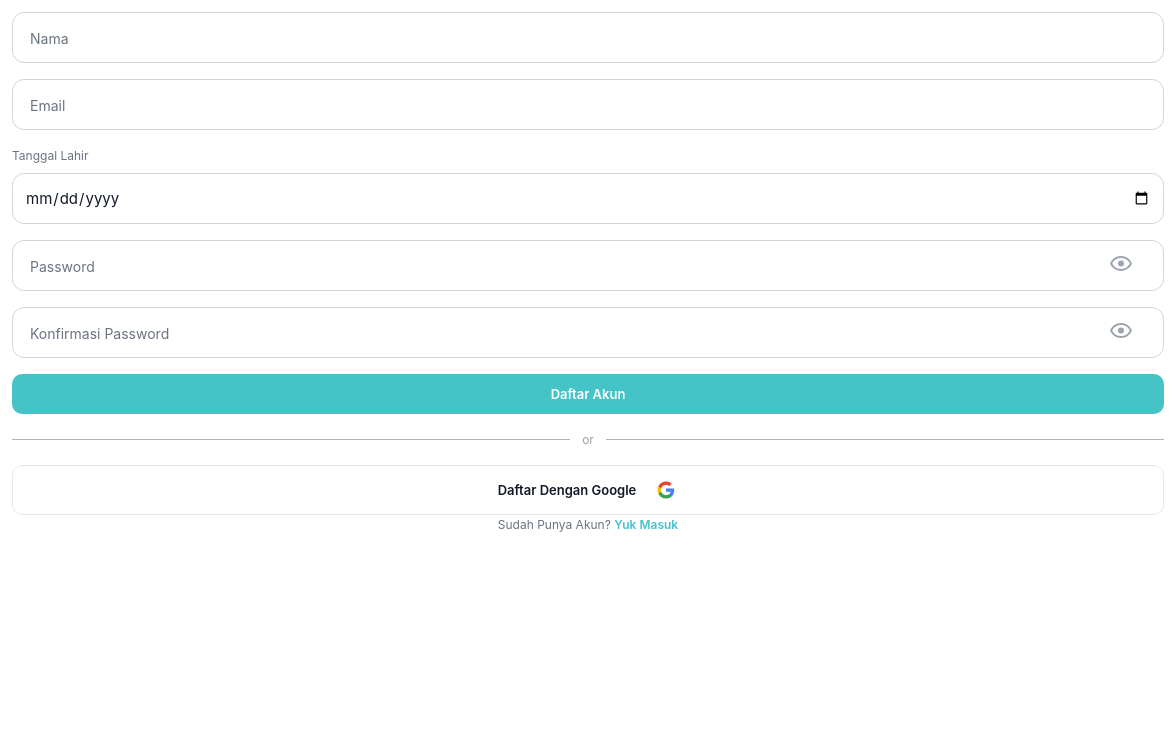
Scenario: RegisterForm › does not submit when password mismatch
In the field labelled "Nama": point(588, 38) [12,12,1164,63], type "Routa User"
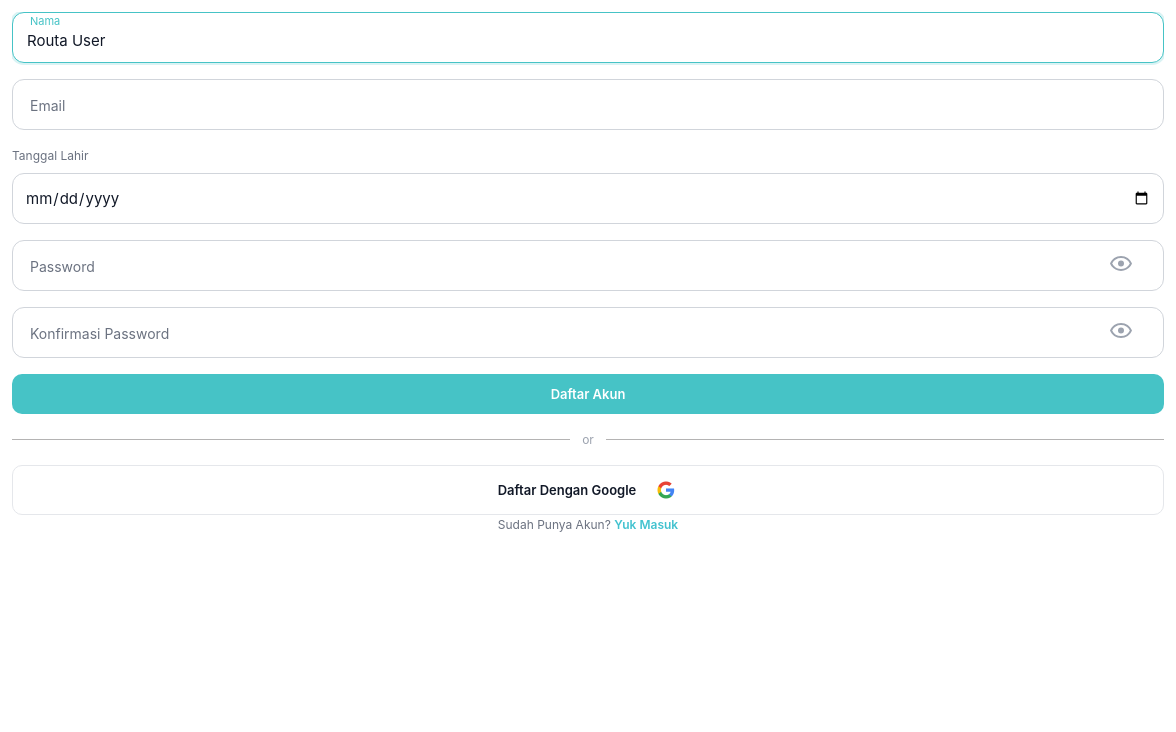
In the field labelled "Email": point(588, 104) [12,79,1164,130], type "user@example.com"
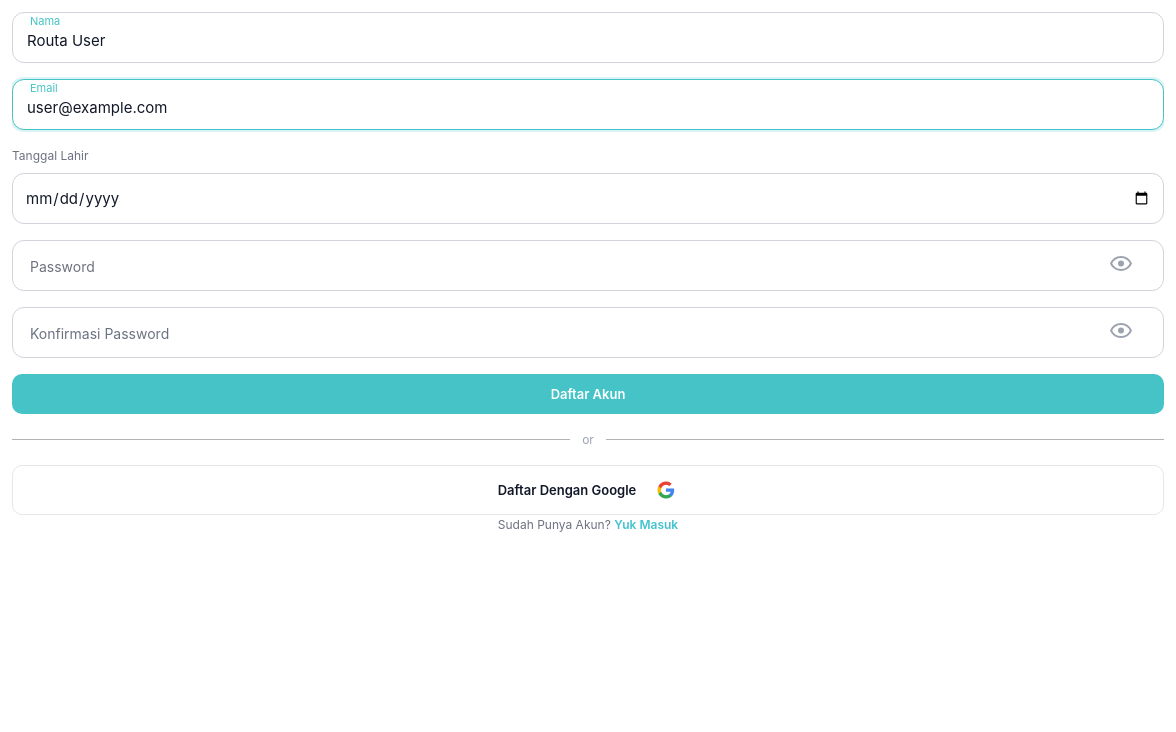
In the date field labelled "Tanggal Lahir": point(588, 199) [12,173,1164,224], type "1995-06-15"
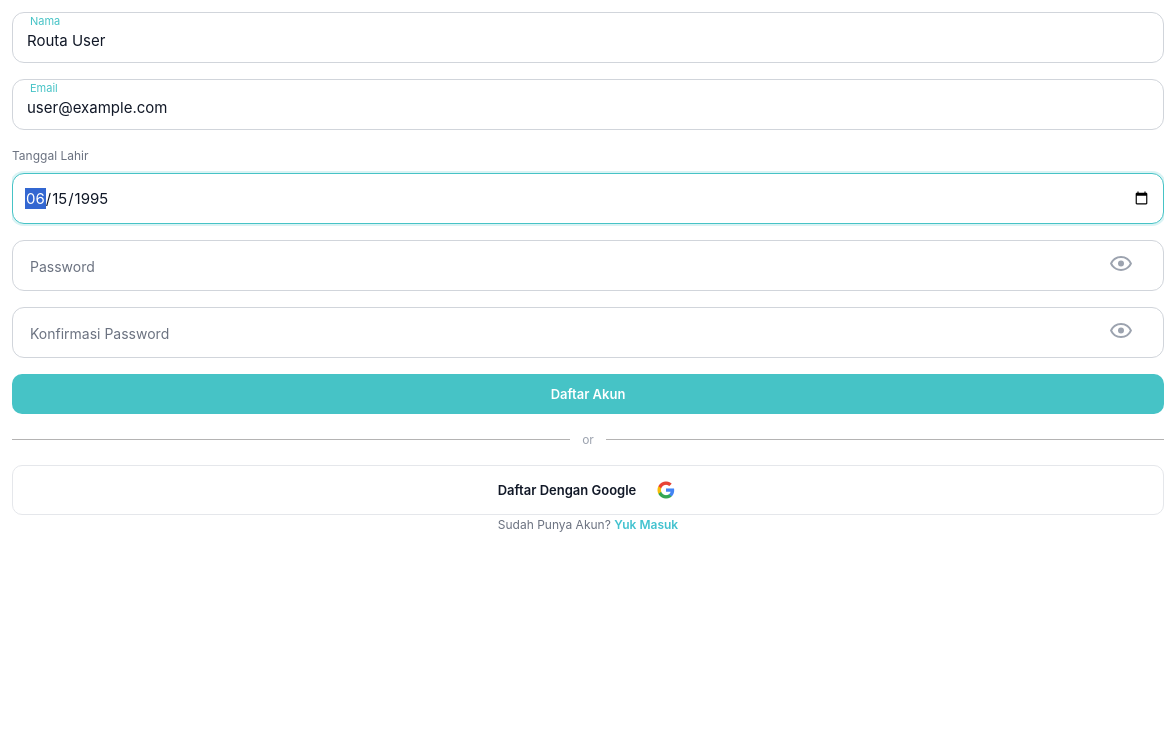
In the password field labelled "Password": point(588, 266) [12,240,1164,291], type "secret123"
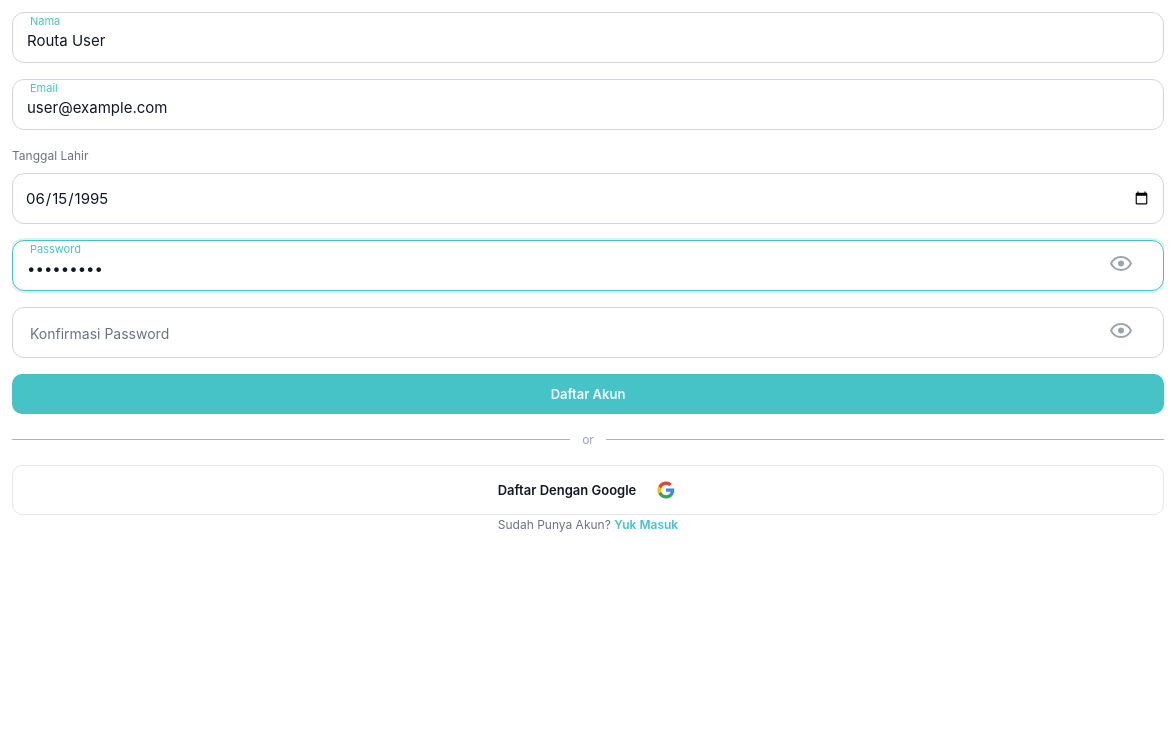
In the password field labelled "Konfirmasi Password": point(588, 333) [12,307,1164,358], type "secret321"
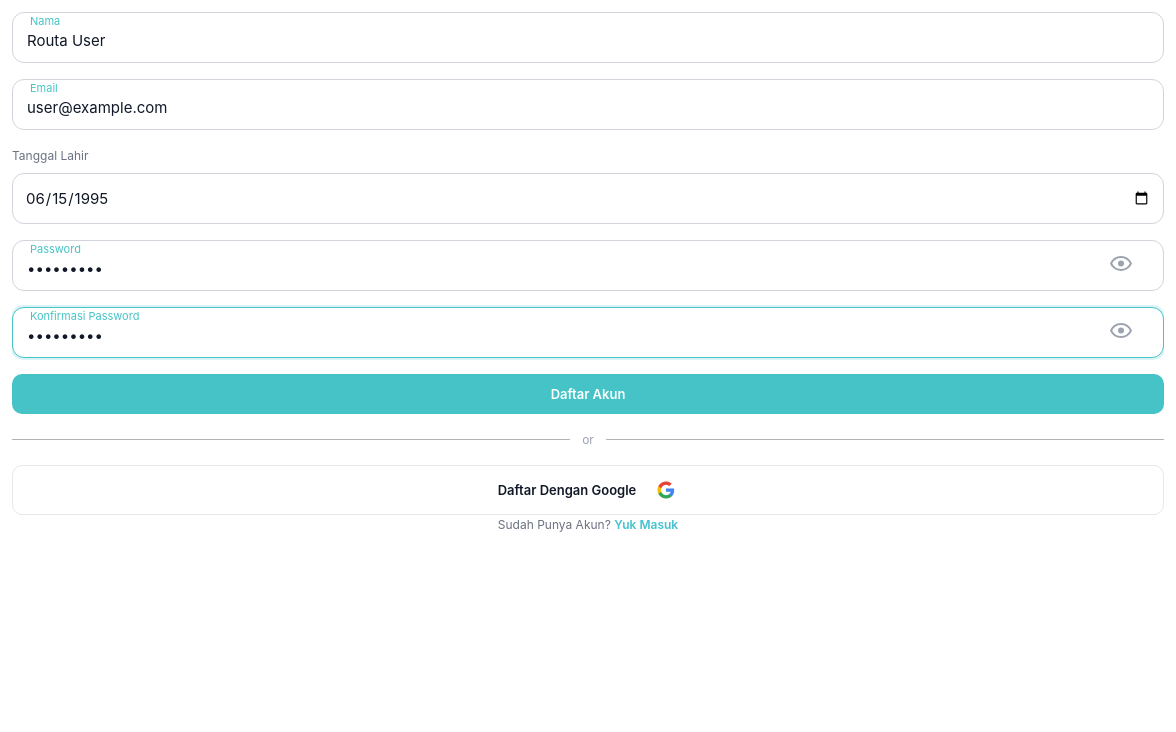
Click the button "Daftar Akun": point(588, 394) [12,374,1164,414]
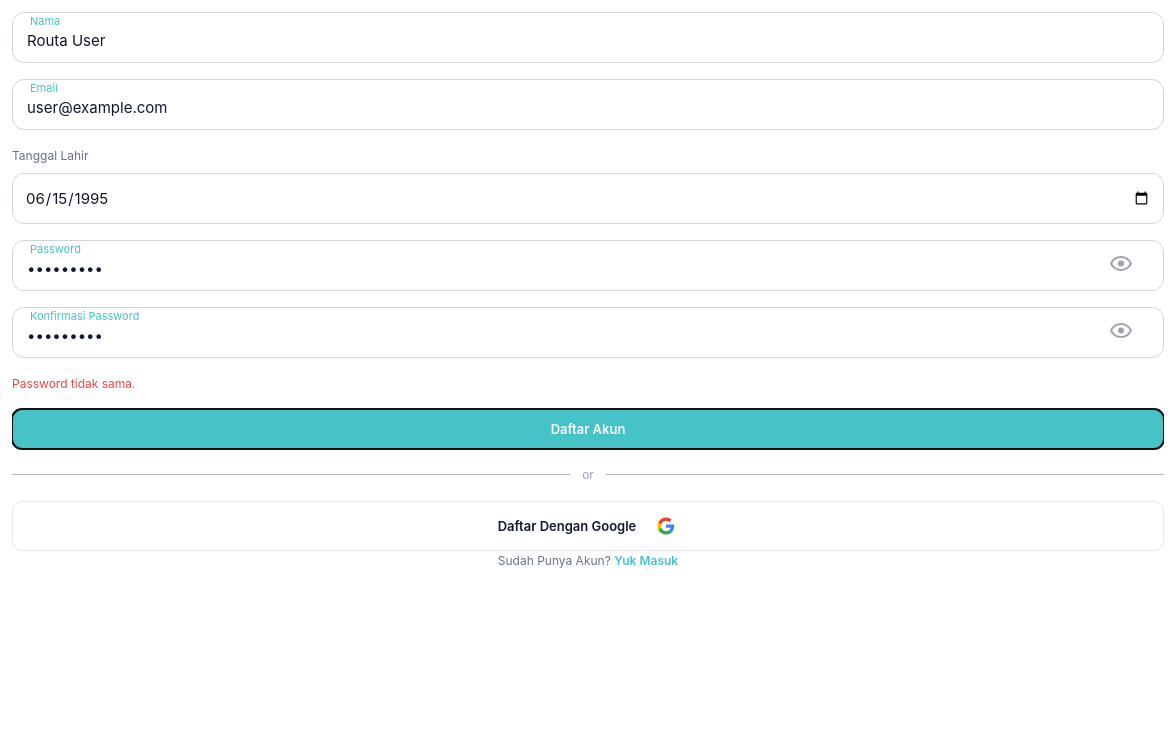
Expected: the message reads "Password tidak sama.", [12,376,136,391]
